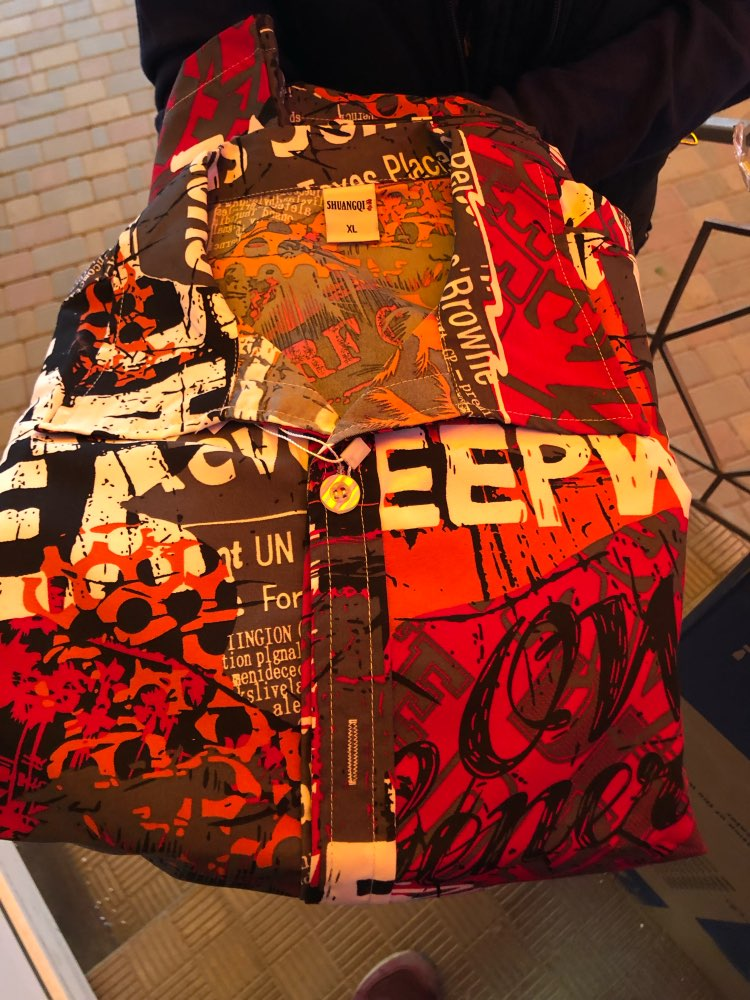shirts: (3, 98, 695, 883)
